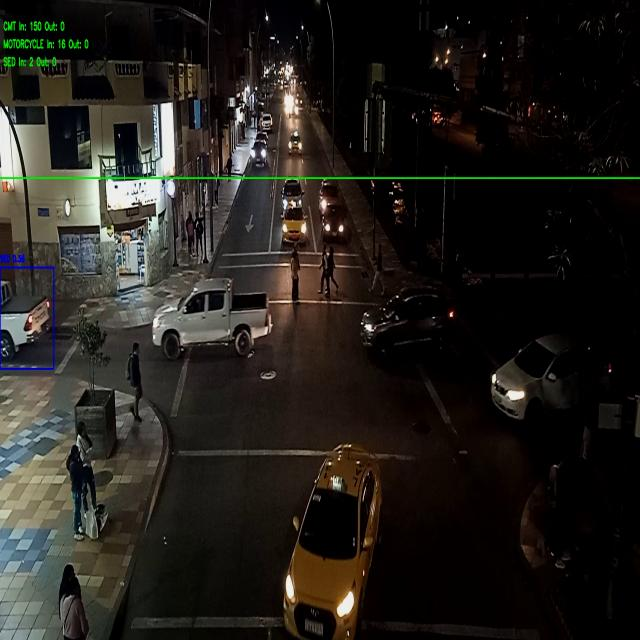CMT: (155, 279, 269, 349), (0, 278, 49, 356)
SED: (494, 334, 590, 418), (284, 208, 306, 243)
SUV: (363, 288, 449, 348)
